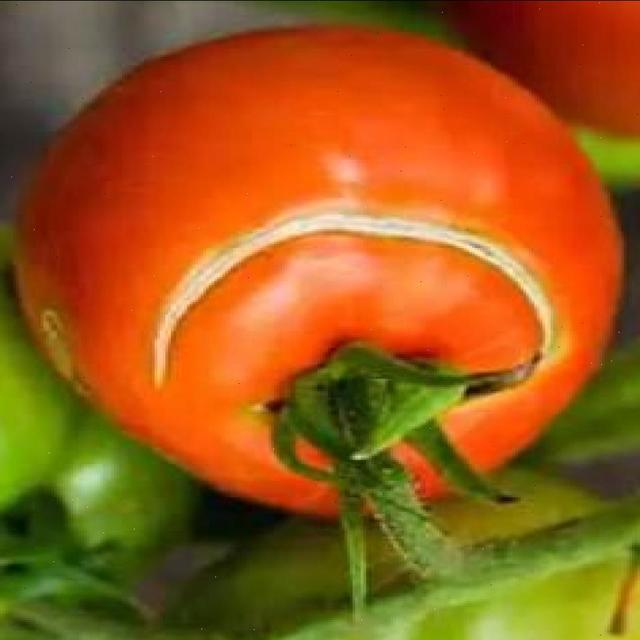Cracking Fruit: (82, 137, 378, 261)
